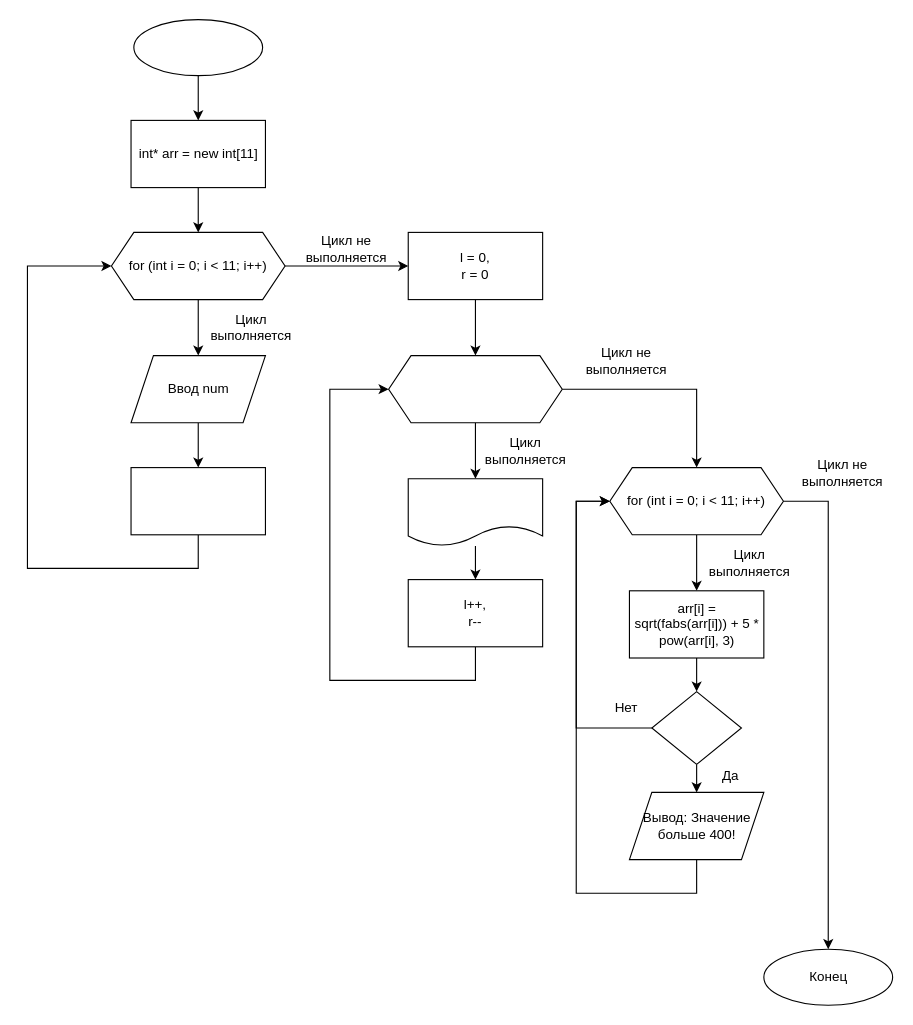
Some shapes in this 913 by 1025 pixel diagram are drawn without their labels. The centre of each missing label's shape, as x and y in pixels:
arr[i] = num: [197,500]
arr[i] > 400?: [696,727]
swap(arr[l], arr[r]): [475,512]
while (l < r): [475,388]
Начало: [198,47]
